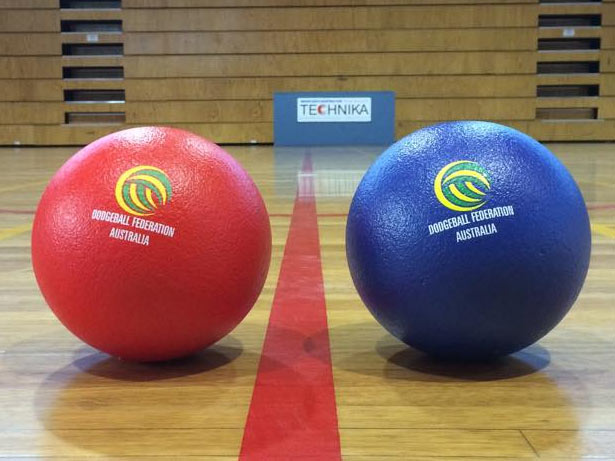blue ball: (343, 118, 596, 361)
red ball: (25, 125, 274, 364)
